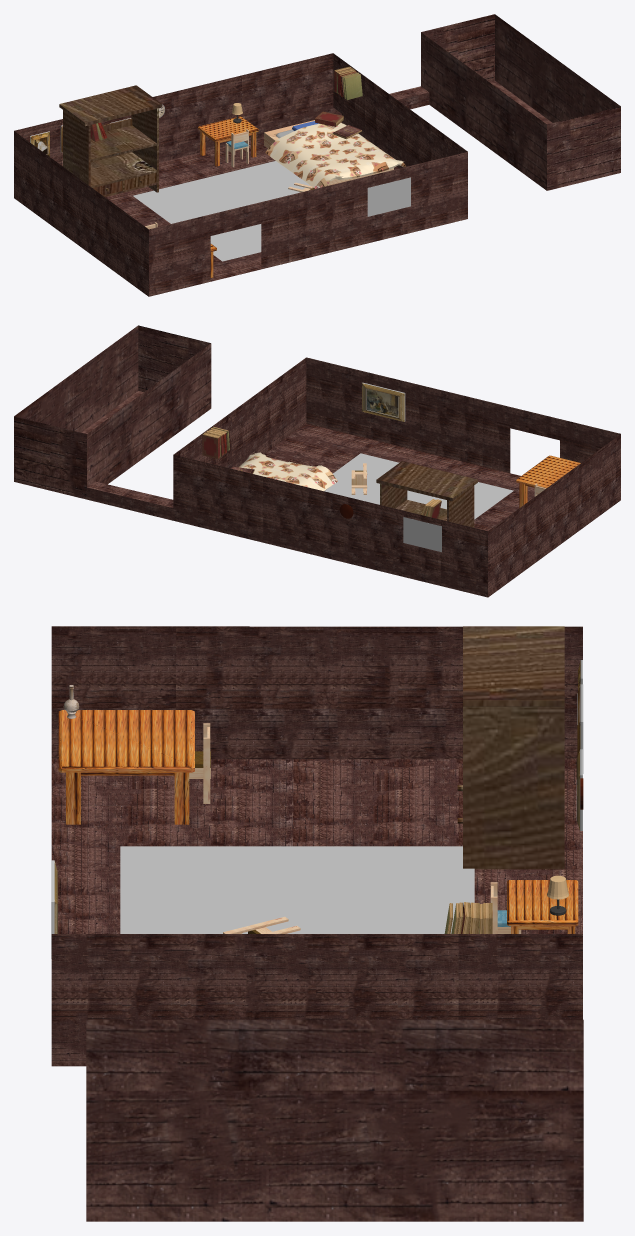
File: stageKari.fbx
3 renders of one model, top to bottom at view 1: azimuth 30°, elevation 25°; view 2: azimuth 150°, elevation 25°; view 3: azimuth 270°, elevation 25°, orthographic. The views are drawn at different scales.
Parts seen in each view (by area): view 1: pCube23, pasted__pCylinder3, pasted__pasted__pPlane4, pasted__polySurface2, pCube3, pCube10, pasted__pCube21, pasted__polySurface5, pasted__pCube25; view 2: pCube23, pasted__pCylinder3, pasted__pasted__pPlane4, pasted__polySurface2, pCube21, pCube3, pasted__pCube4, pasted__pCube3, pasted__pCube23; view 3: pCube23, pasted__pasted__pPlane4, pasted__pCylinder3, pCube21, pCube10, pasted__pCube22.
Part boxes in pixels (box(x1,y1,x2,y2)): pCube23: box(14, 14, 620, 296); pasted__pCylinder3: box(59, 85, 162, 196); pasted__pasted__pPlane4: box(133, 161, 310, 261); pasted__polySurface2: box(265, 123, 406, 188); pCube3: box(367, 177, 410, 216); pCube10: box(198, 116, 258, 166); pasted__pCube21: box(225, 129, 248, 167); pasted__polySurface5: box(264, 120, 393, 185); pasted__pCube25: box(344, 74, 362, 100); pCube23: box(14, 325, 620, 597); pasted__pCylinder3: box(376, 461, 477, 527); pasted__pasted__pPlane4: box(324, 453, 513, 519); pasted__polySurface2: box(238, 452, 337, 491); pCube21: box(516, 455, 580, 507); pCube3: box(362, 382, 405, 421); pasted__pCube4: box(403, 517, 441, 552); pasted__pCube3: box(202, 433, 220, 458); pasted__pCube23: box(351, 463, 367, 494); pCube23: box(51, 626, 583, 1221); pasted__pasted__pPlane4: box(120, 846, 474, 933); pasted__pCylinder3: box(457, 626, 564, 869); pCube21: box(58, 710, 194, 824); pCube10: box(507, 880, 578, 933); pasted__pCube22: box(189, 723, 210, 803).
Bounding box in the file's own units: 1770 × 308 × 860.
